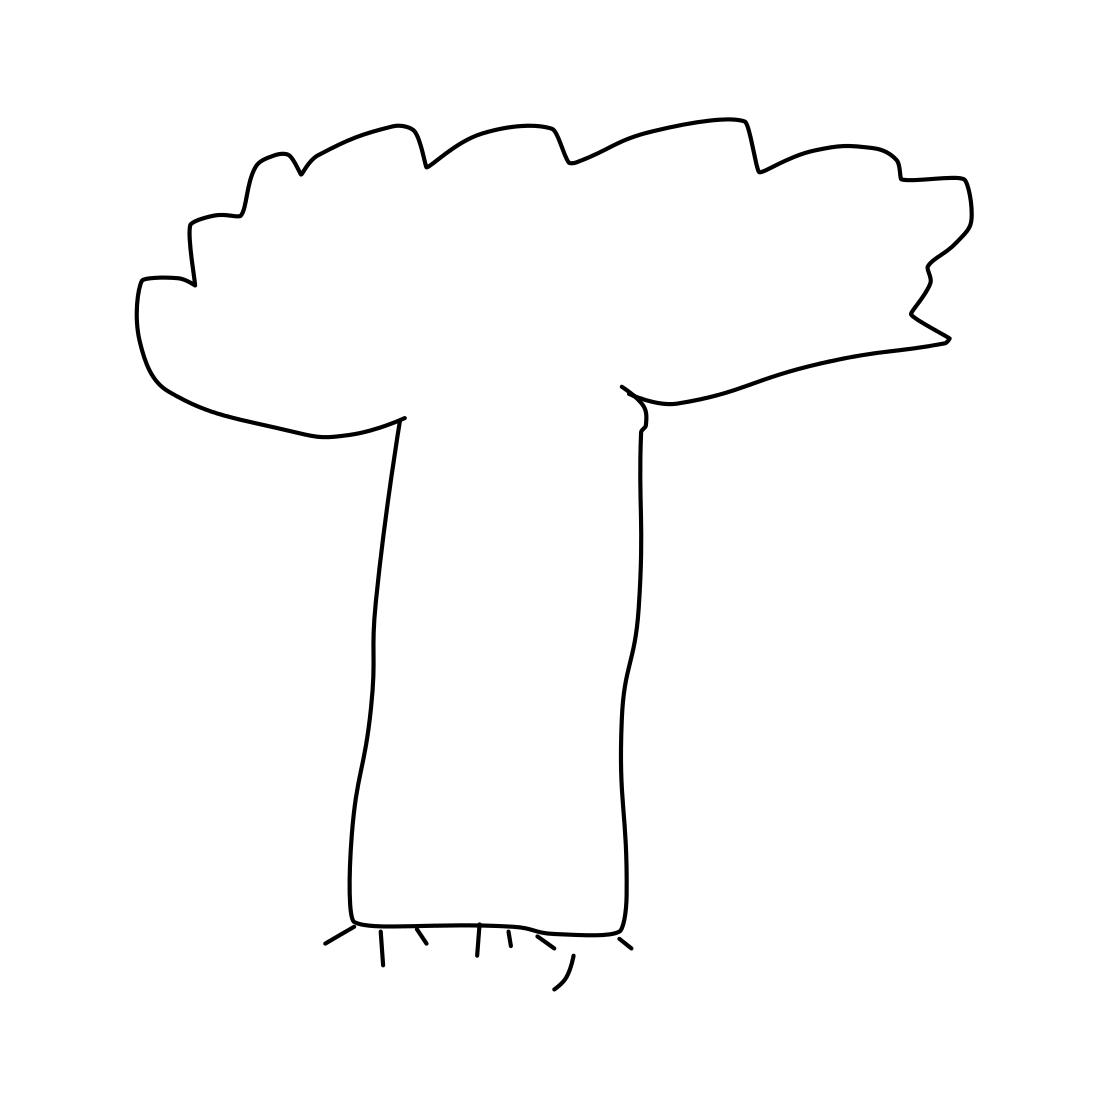Tree: (110, 100, 1025, 985)
